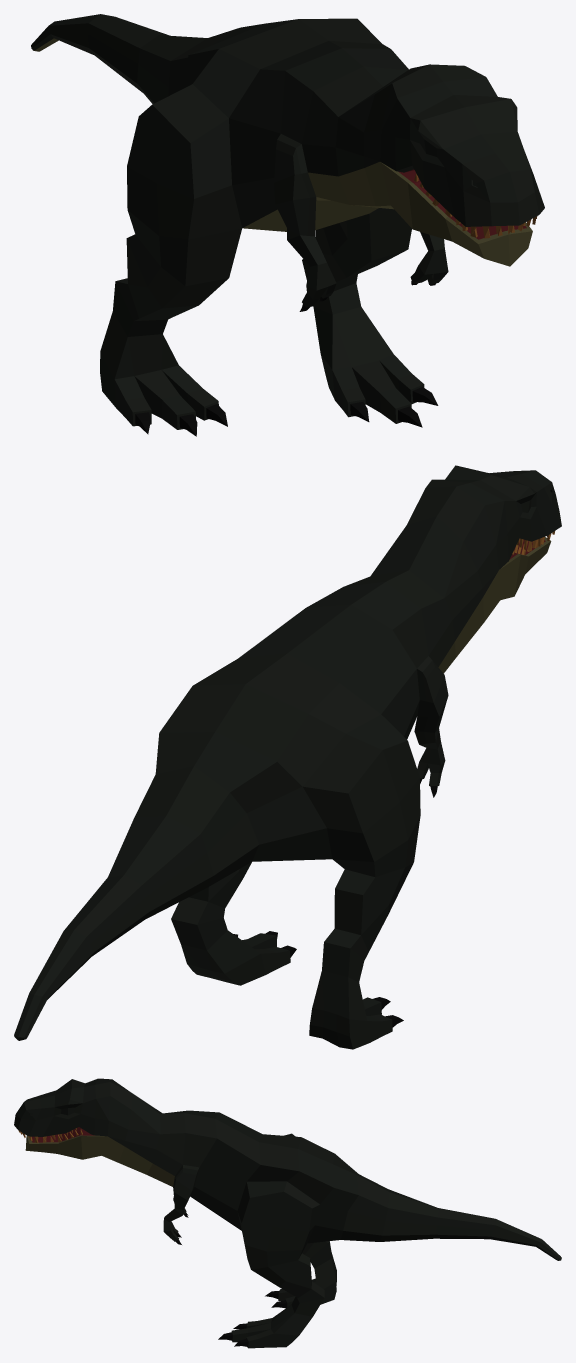
Rendered from trex.obj.
3 views of the same model, one above another, from view 1: azimuth 30°, elevation 25°; view 2: azimuth 150°, elevation 25°; view 3: azimuth 270°, elevation 25° (orthographic). The views are drawn at different scales.
Parts seen in each view (by area): view 1: Trex_Cylinder; view 2: Trex_Cylinder; view 3: Trex_Cylinder.
Part boxes in pixels (x1=…): Trex_Cylinder: x1=31, y1=14, x2=544, y2=436; Trex_Cylinder: x1=14, y1=465, x2=561, y2=1049; Trex_Cylinder: x1=14, y1=1078, x2=561, y2=1348.
Size of the model in its own units: 7.96 by 14.68 by 30.87.
